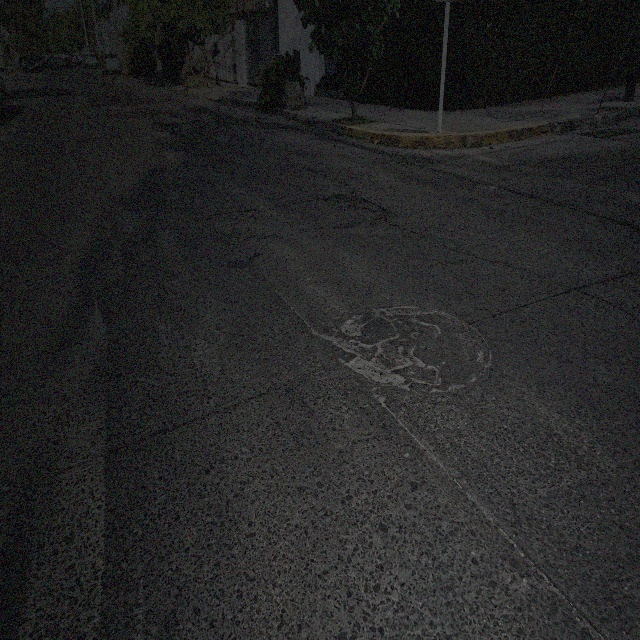pothole: (346, 324, 408, 392)
